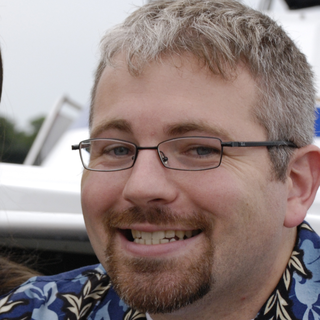eye: (179, 140, 227, 164), (98, 140, 140, 163)
